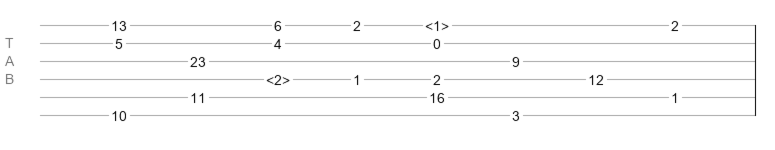0: (433, 36, 441, 46)
1: (353, 72, 361, 82), (671, 90, 679, 100)
10: (111, 108, 127, 118)
11: (190, 90, 206, 100)
12: (588, 72, 604, 82)
13: (111, 18, 127, 28)
16: (429, 90, 445, 100)
2: (353, 18, 361, 28), (433, 72, 441, 82), (671, 18, 679, 28)
23: (190, 54, 206, 64)
3: (512, 108, 520, 118)
4: (274, 36, 282, 46)
5: (115, 36, 123, 46)
6: (274, 18, 282, 28)
9: (512, 54, 520, 64)
harmonic: (266, 72, 290, 82), (425, 18, 449, 28)
